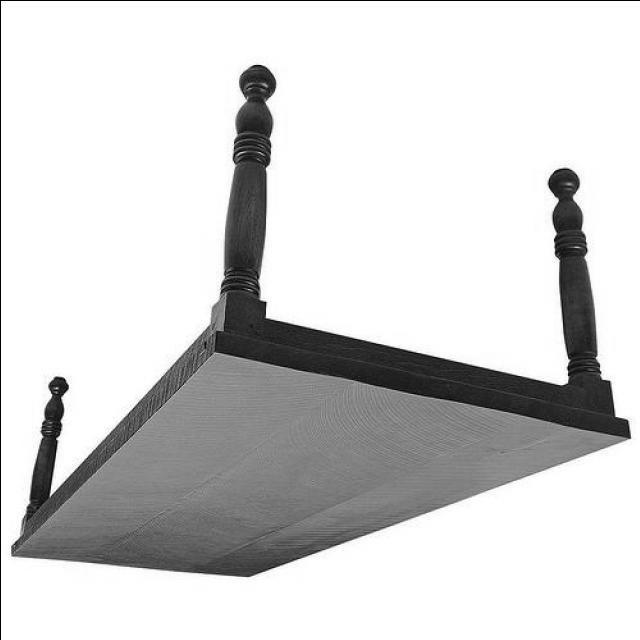table: (10, 66, 628, 577)
